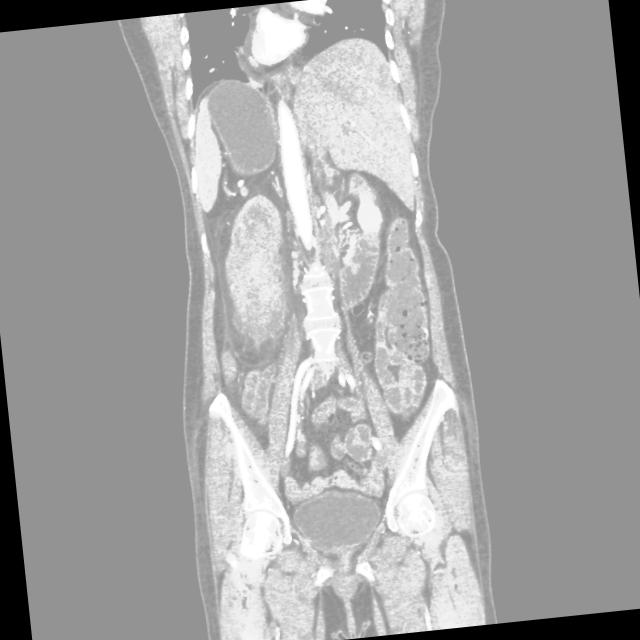TUMOR: (108, 193, 514, 473)
